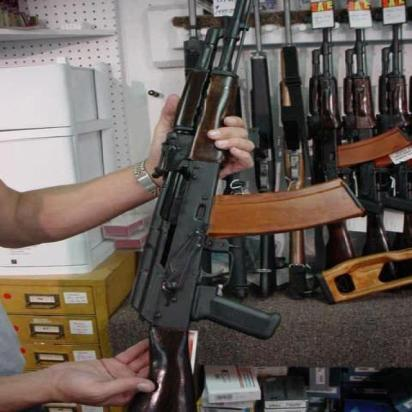Gun: (121, 0, 254, 412)
